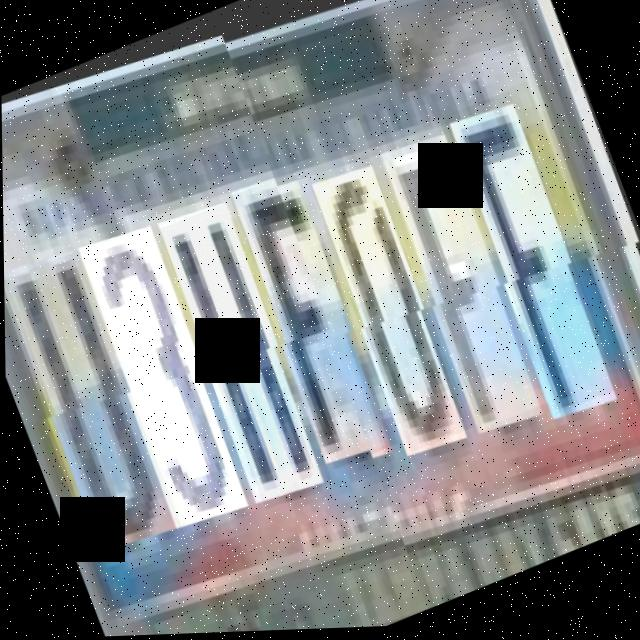0: (306, 154, 472, 458)
3: (77, 224, 258, 541)
F: (443, 91, 622, 421), (375, 122, 548, 435), (229, 170, 397, 475)
H: (157, 201, 332, 515)
U: (3, 247, 187, 566)
